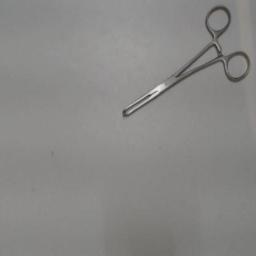Allis Tissue Forceps: (118, 2, 254, 120)
